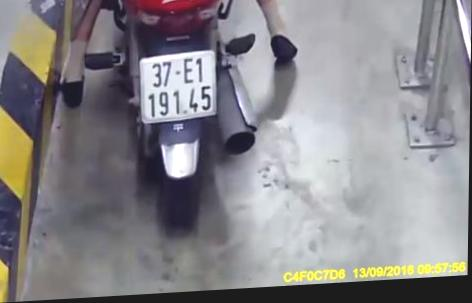License_Plate: (135, 46, 224, 124)
